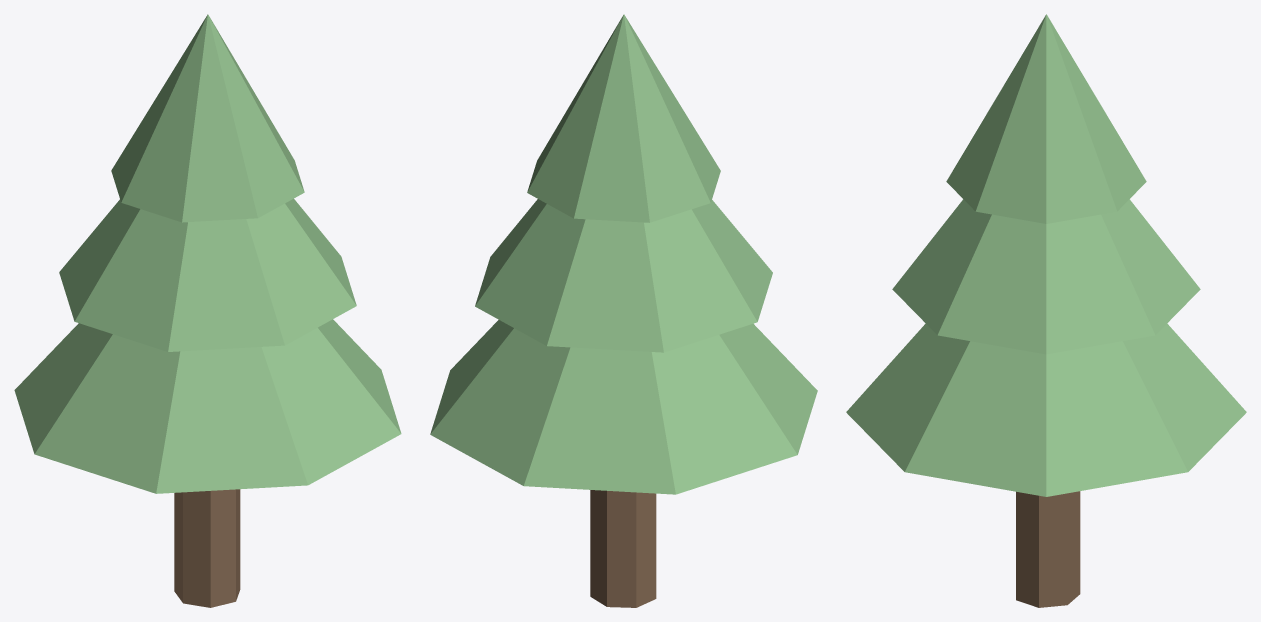
The model's file is tree_pine.glb.
3 views of the same model, side by side, from view 1: azimuth 30°, elevation 25°; view 2: azimuth 150°, elevation 25°; view 3: azimuth 270°, elevation 25° (orthographic).
Parts seen in each view (by area): view 1: TreePine; view 2: TreePine; view 3: TreePine.
Boxes of the visible parts, x1,y1,x2,y2 form: TreePine: [14, 14, 401, 607]; TreePine: [430, 14, 817, 607]; TreePine: [846, 14, 1246, 607].
Bounding box in the file's own units: 2.6 × 4.15 × 2.6.
